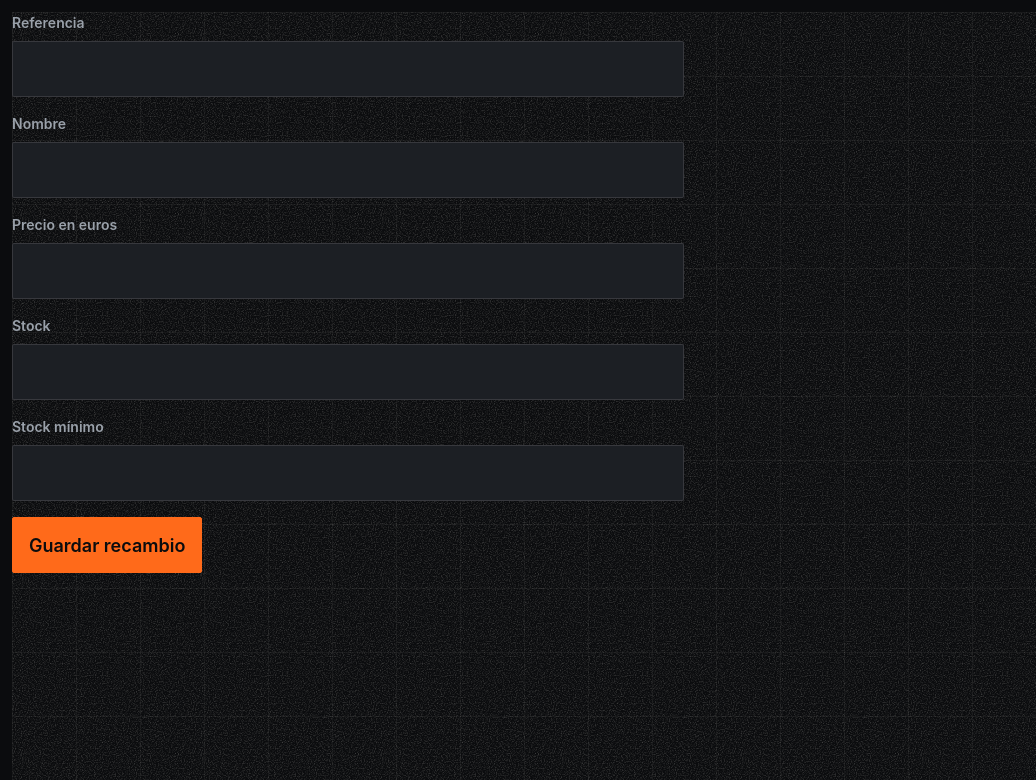
Test: FormularioRecambio: cuando guarda › [C-3] al guardar bien lo dice, y el alta queda vacía para añadir otro
In the field labelled "Referencia": (348, 69) 12,41 -> 684,97, type "bat-12"
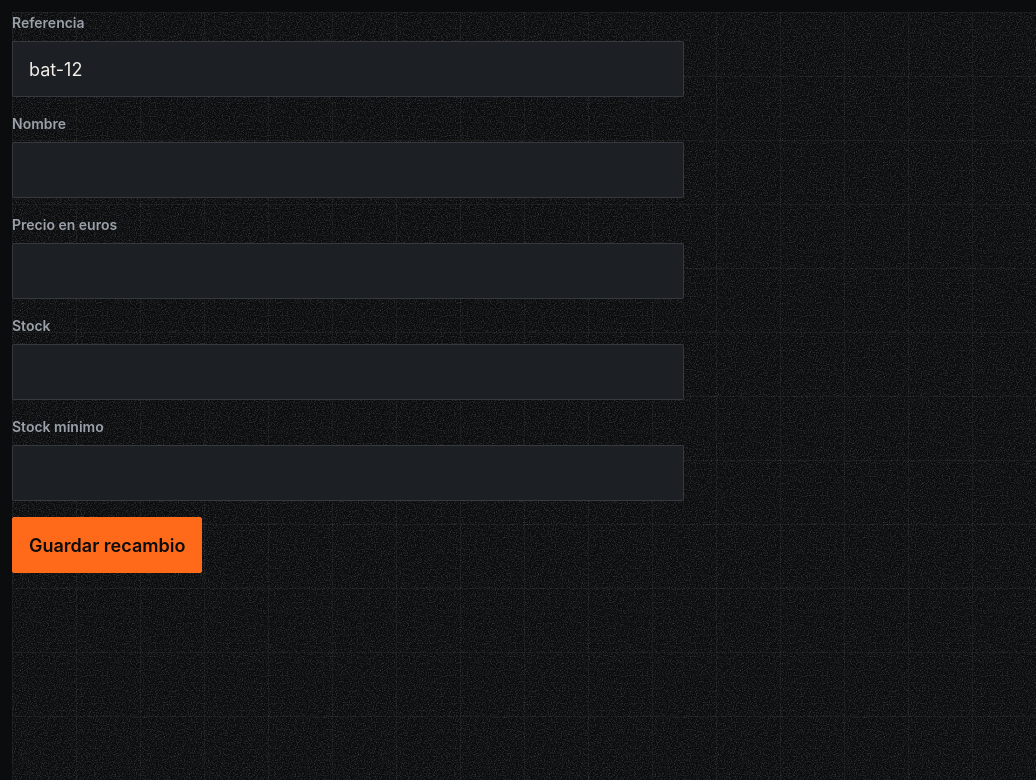
Click the button "Guardar recambio": click(107, 545) 12,517 -> 202,573
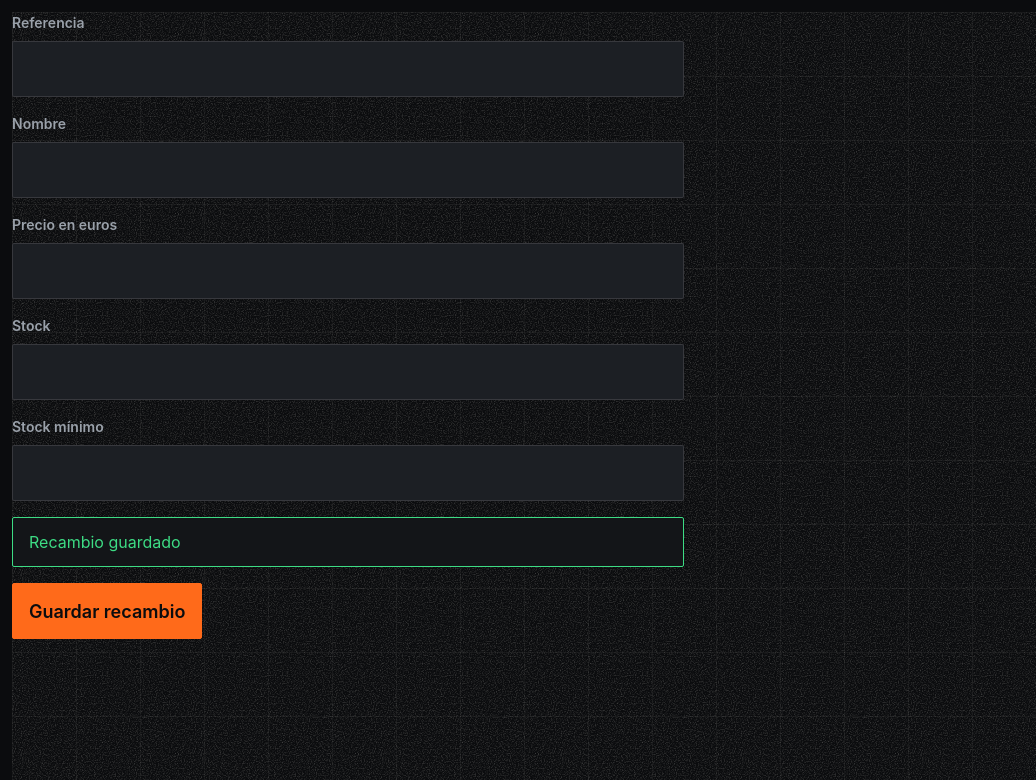
Result: the message reads "Recambio guardado" at 29,532 -> 181,552
Result: the field labelled "Referencia" is empty at 12,41 -> 684,97
